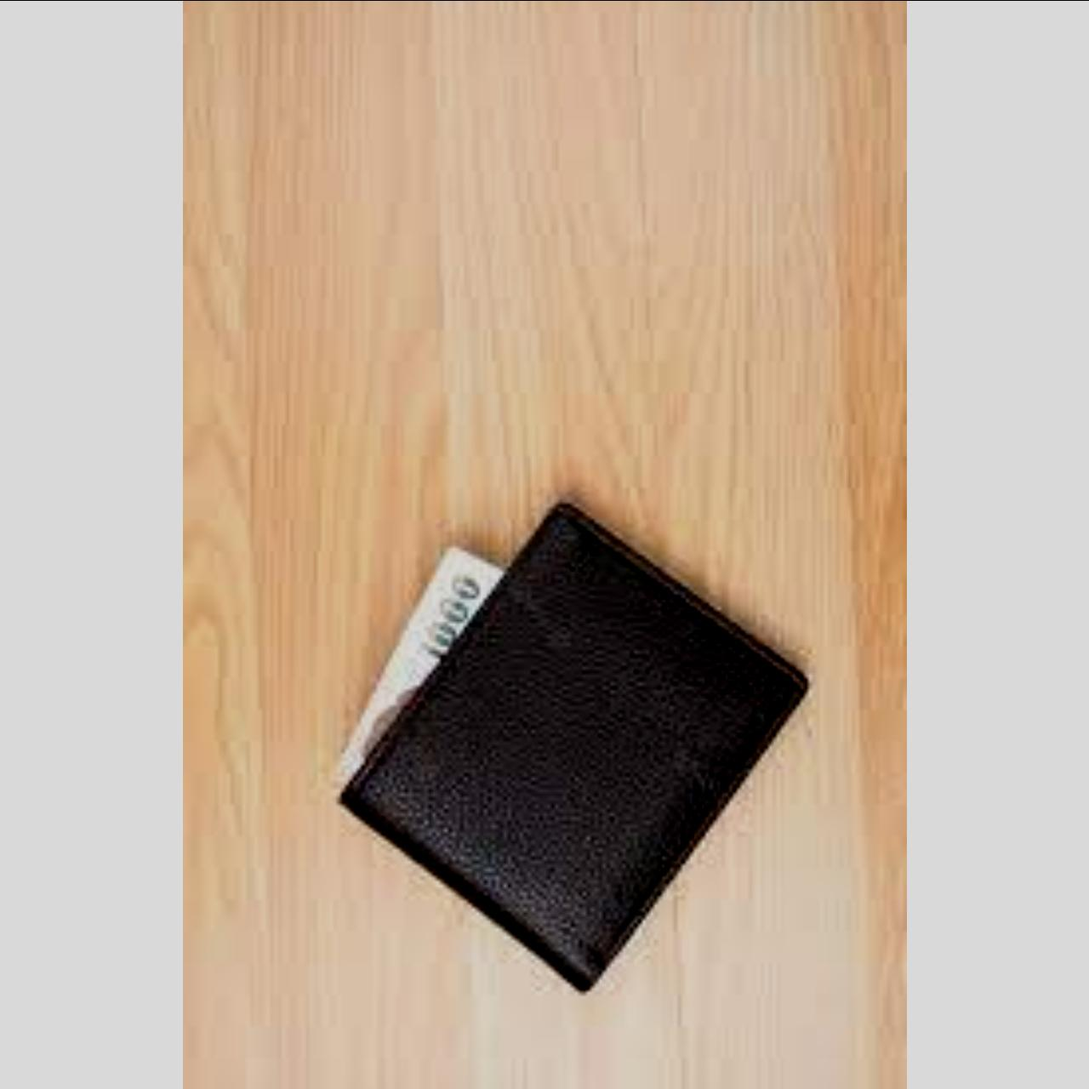wallet: (307, 327, 849, 1000)
